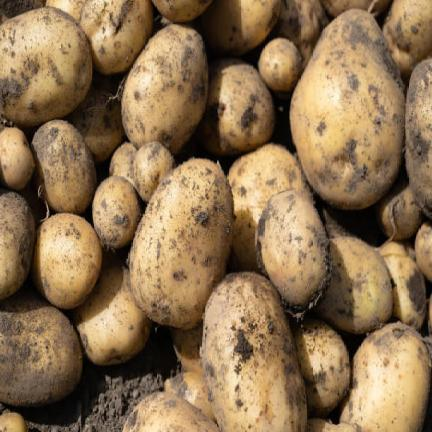potato: (291, 10, 404, 209), (130, 159, 233, 328), (202, 273, 306, 431), (121, 24, 208, 152), (0, 7, 92, 125), (227, 144, 309, 271), (341, 322, 430, 430), (255, 190, 331, 316), (0, 290, 82, 405), (316, 210, 392, 333), (72, 253, 151, 364), (197, 59, 275, 154), (31, 213, 101, 308), (32, 120, 96, 213), (79, 0, 152, 74), (294, 318, 349, 416), (68, 86, 124, 163), (202, 0, 280, 53), (380, 241, 426, 329), (406, 59, 431, 218), (0, 190, 35, 299), (383, 0, 431, 77), (123, 392, 217, 431), (92, 176, 140, 248), (277, 0, 328, 66), (376, 175, 422, 239), (258, 37, 301, 95), (133, 142, 174, 201), (164, 372, 214, 420), (0, 127, 34, 190), (172, 323, 203, 373), (152, 0, 212, 22), (19, 182, 48, 226), (109, 142, 136, 184), (320, 0, 390, 16), (415, 220, 431, 281), (0, 0, 44, 21), (46, 0, 85, 20), (307, 418, 361, 431), (0, 413, 28, 431)
